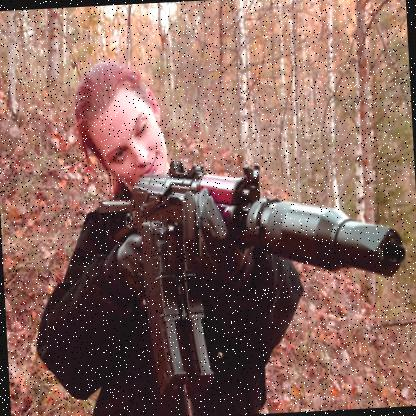rifle: (89, 136, 413, 353)
